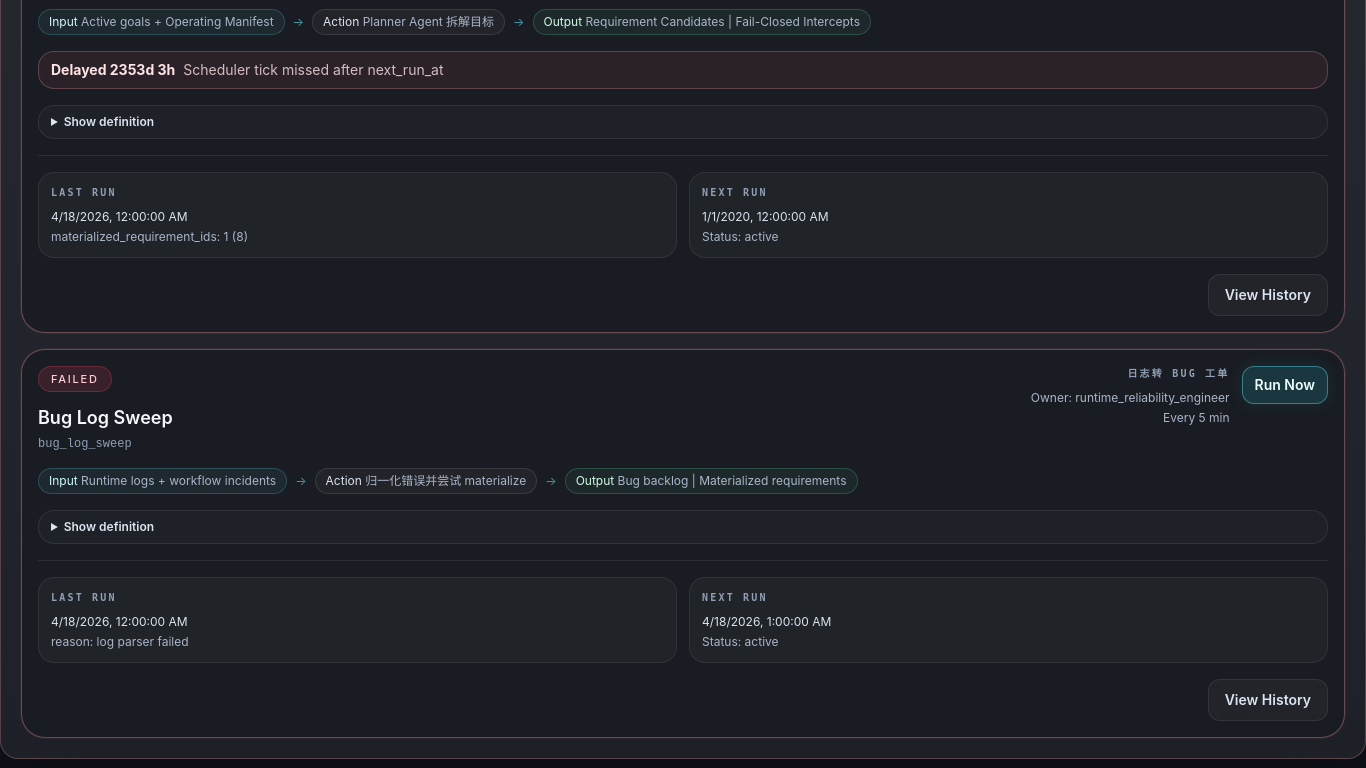
SchedulesPage › locks the running card while Run Now is in flight
(page scrolled)
Expected: the button "Bug Log Sweep" is shown, [38, 404, 173, 432]
Expected: the element with test id "scheduled-job-card" that starts with "failed" is shown, [21, 348, 1345, 738]
Click the button "Run Now".
click(1285, 384)  # box [1242, 366, 1328, 404]
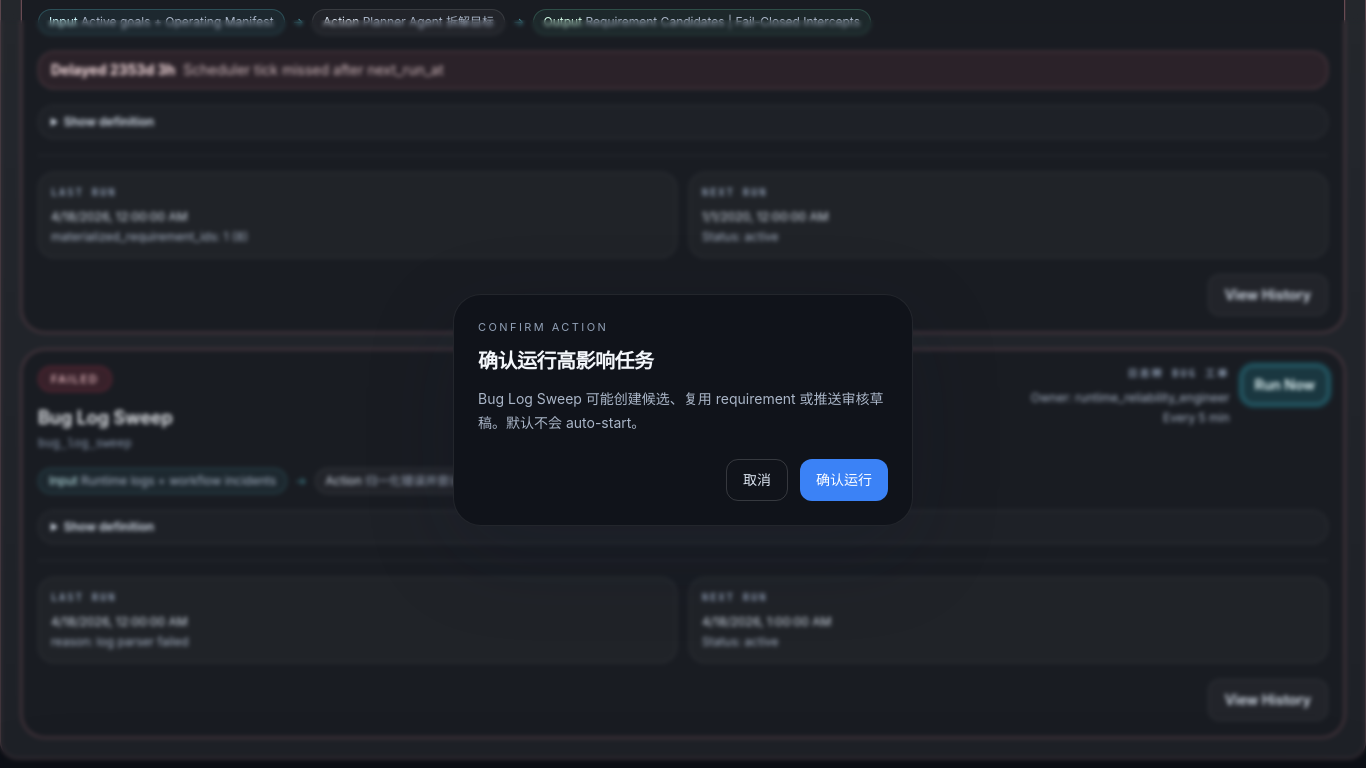
Now the dialog "确认运行高影响任务" is shown, box [453, 294, 913, 526]
Click the button "确认运行".
click(844, 480)  # box [800, 459, 888, 501]
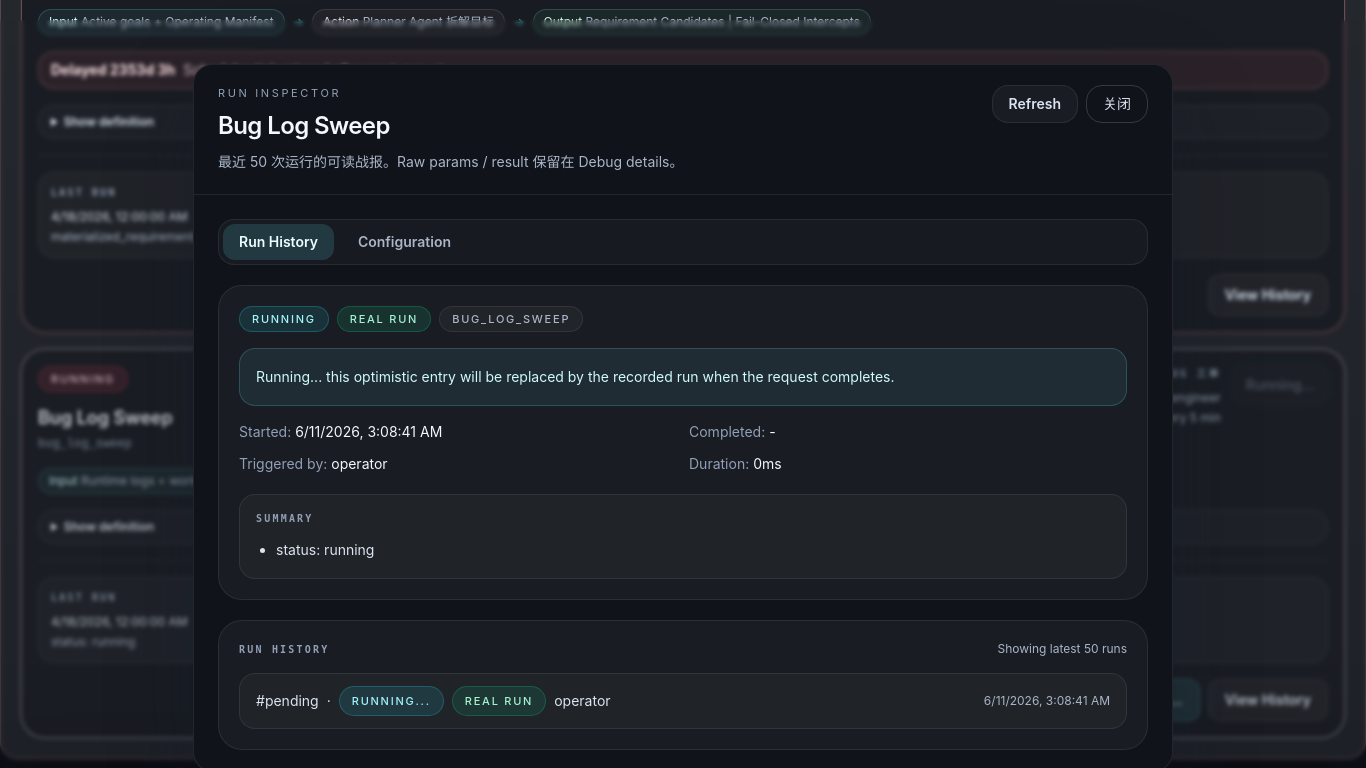
Now the button "Running..." is disabled, box [1233, 366, 1328, 404]
